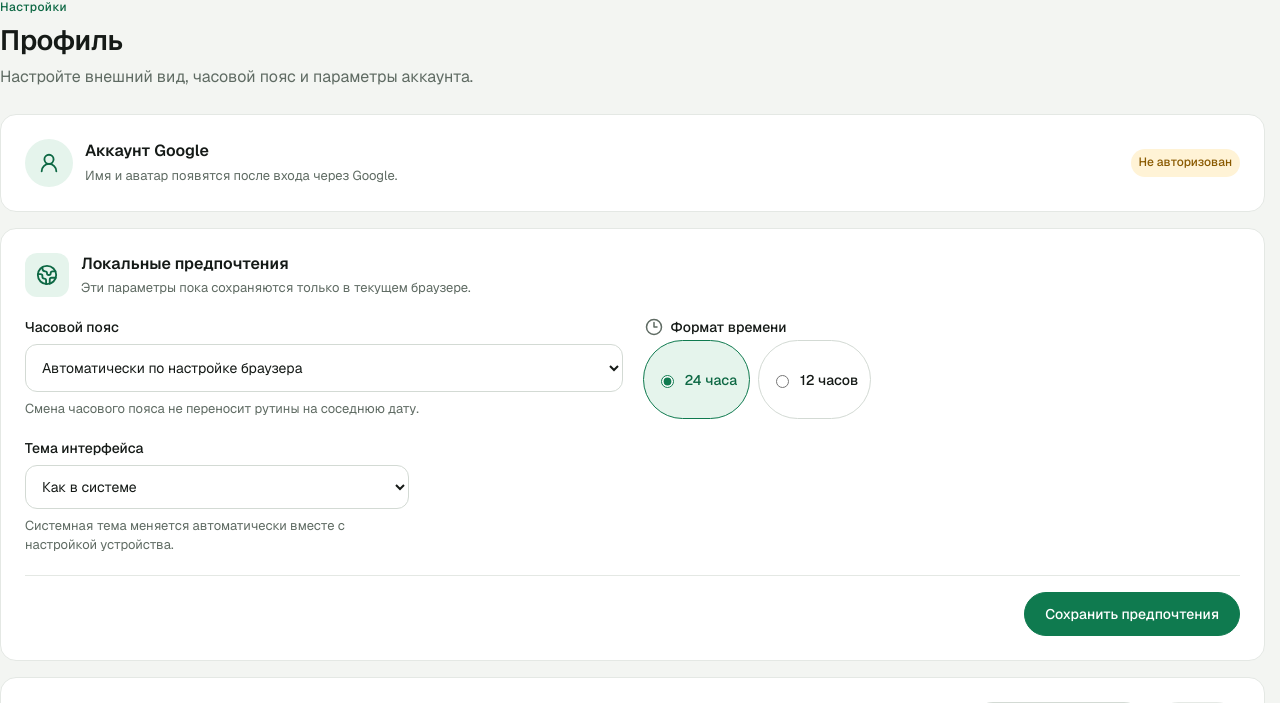
Test case: страница профиля › сохраняет предпочтения профиля и тему на одной странице
Expected: the heading "Профиль" is shown, [0, 22, 123, 58]
Expected: the text "Не авторизован" is shown, [1131, 149, 1240, 177]
Select "Владивосток (UTC+10)" in the dropdown labelled "Часовой пояс": (324, 368) [25, 344, 622, 392]
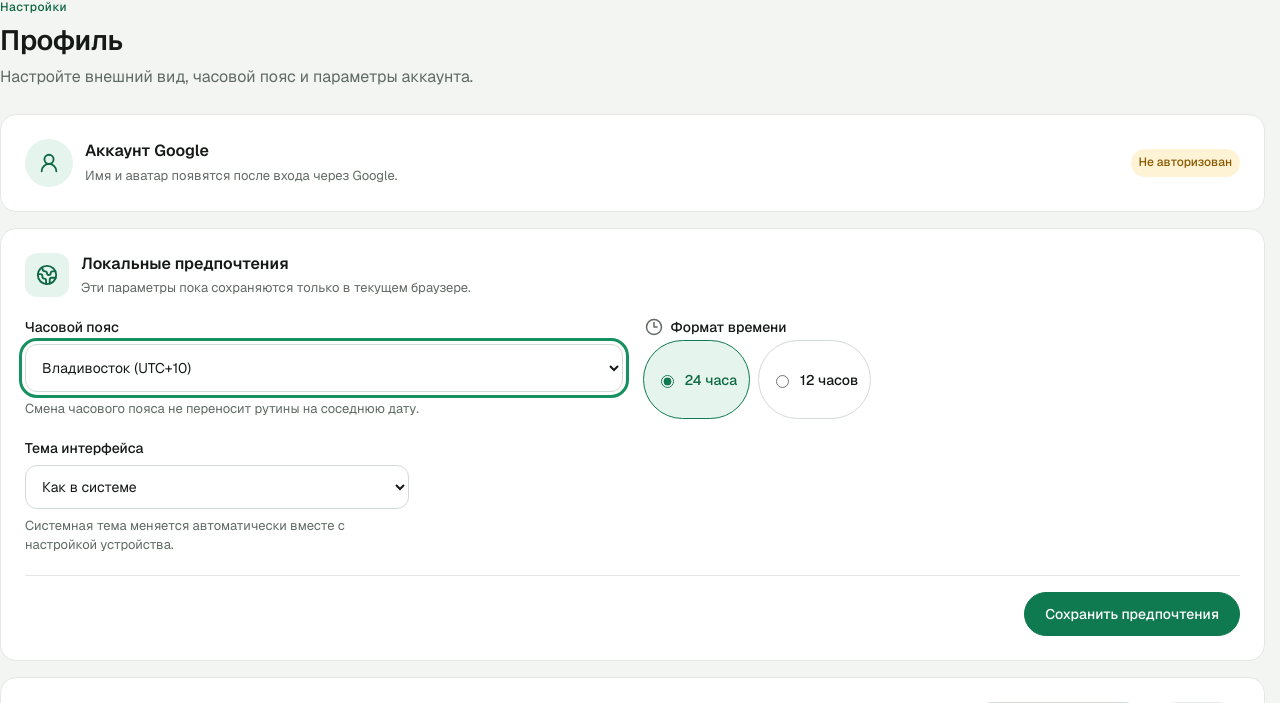
Select "Тёмная" in the dropdown labelled "Тема интерфейса": (217, 487) [25, 465, 409, 509]
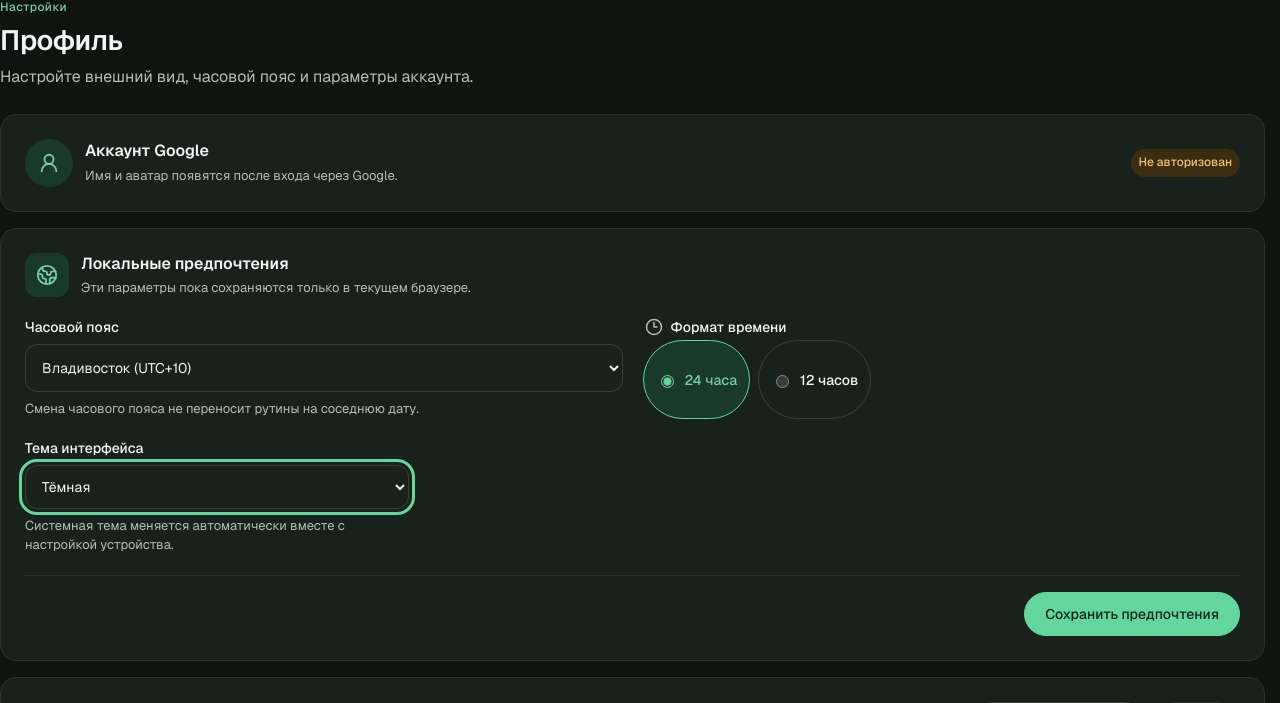
Click the button "Сохранить предпочтения": (1132, 614) [1024, 592, 1240, 636]
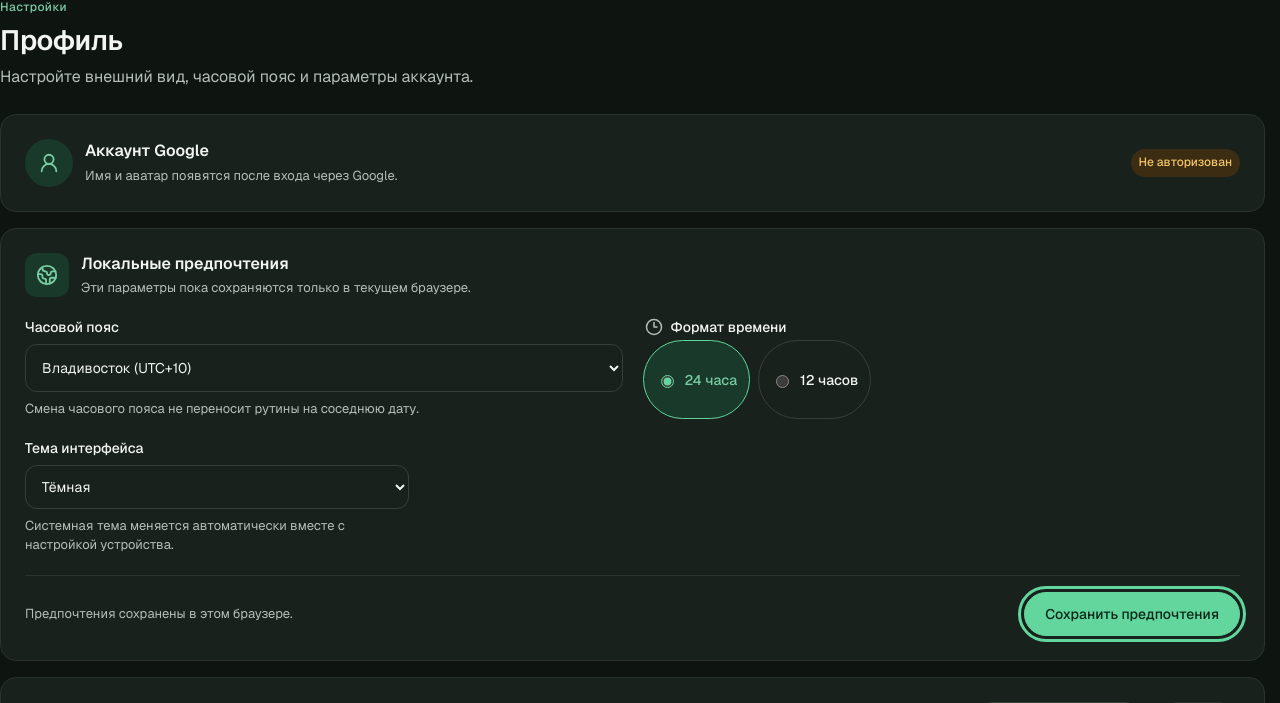
Now the text "Предпочтения сохранены в этом браузере." is shown, box [25, 605, 293, 622]
